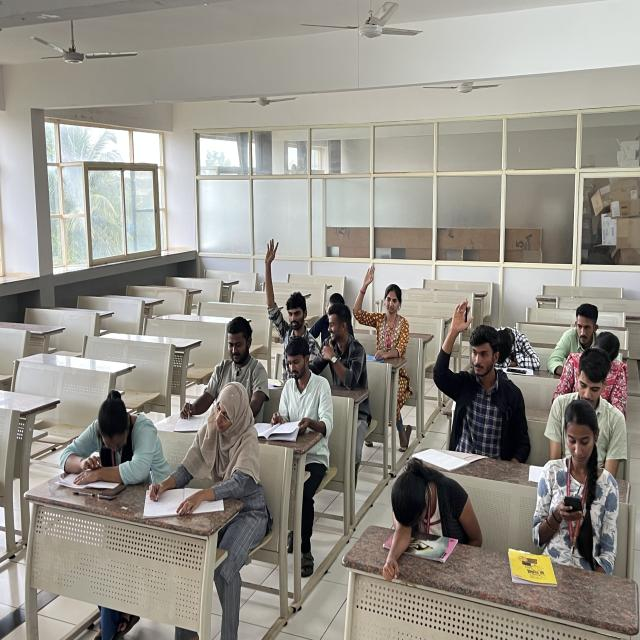Hand Rising: (433, 299, 508, 424), (258, 235, 319, 363), (352, 264, 408, 345)
Reading: (524, 348, 624, 486), (260, 336, 338, 442)
Sleeping: (382, 450, 484, 560), (490, 306, 541, 368)
Using Phone: (534, 401, 619, 551)
Writing: (147, 385, 271, 528), (174, 312, 269, 432)
